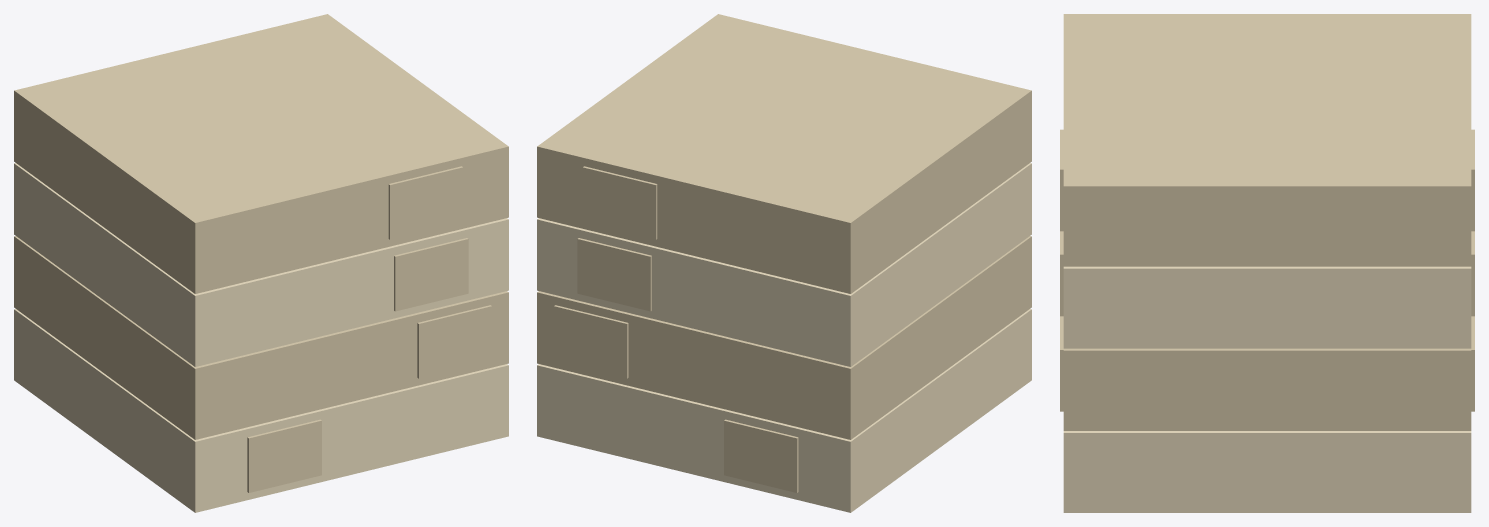
The model's file is mumia_manga_inf.glb.
3 views of the same model, side by side, from view 1: azimuth 30°, elevation 25°; view 2: azimuth 150°, elevation 25°; view 3: azimuth 270°, elevation 25° (orthographic). The views are drawn at different scales.
Parts seen in each view (by area): view 1: mumia_manga_inf; view 2: mumia_manga_inf; view 3: mumia_manga_inf.
Part boxes in pixels (box(x1,y1,x2,y2)): mumia_manga_inf: box(14, 14, 508, 512); mumia_manga_inf: box(537, 14, 1031, 512); mumia_manga_inf: box(1060, 14, 1474, 512).
Size of the model in its own units: 0.3 by 0.265 by 0.305.
